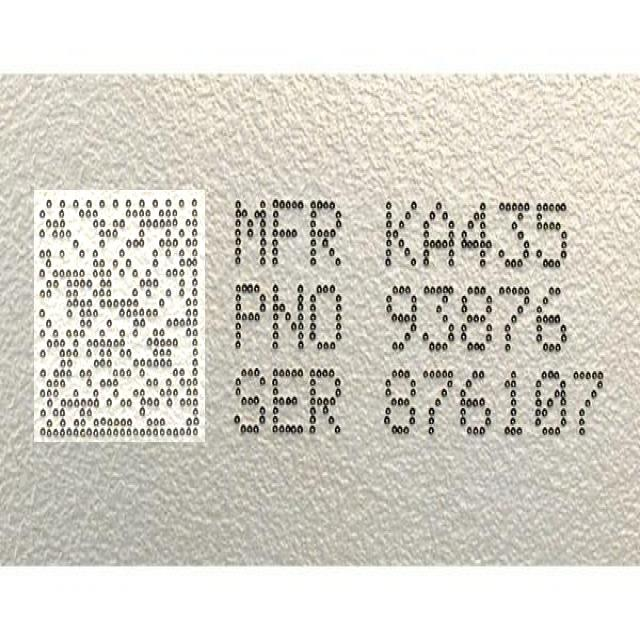Data-Matrix: (34, 190, 205, 442)
